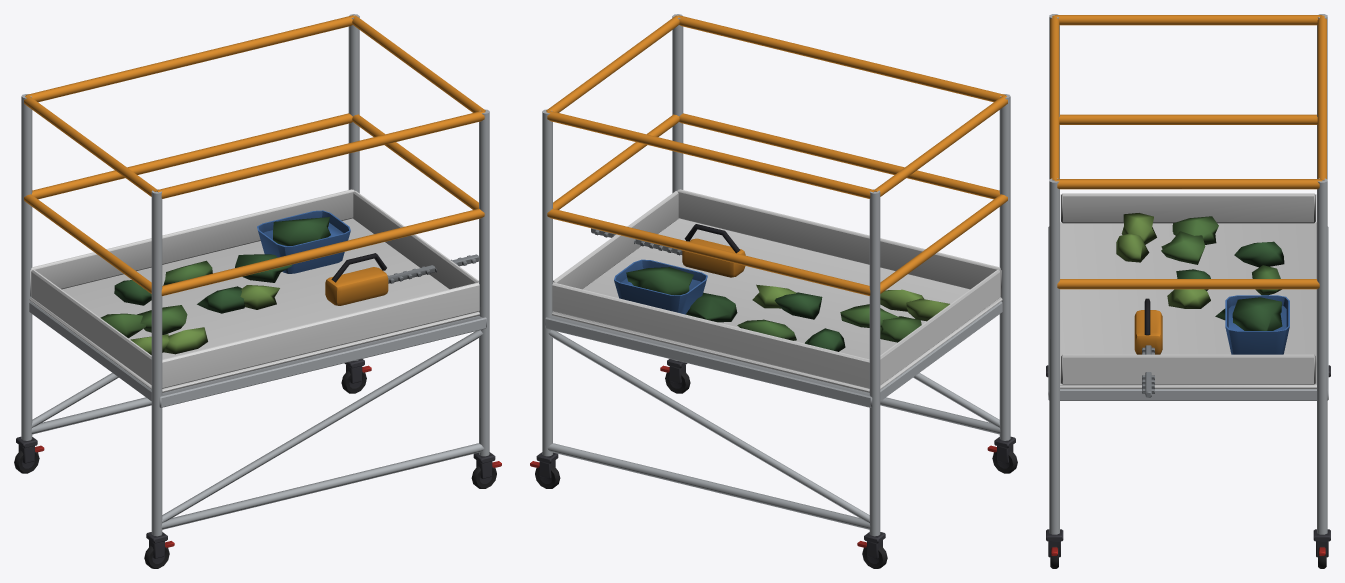
Rendered from AccessPlatform.fbx.
3 renders of one model, left to right at view 1: azimuth 30°, elevation 25°; view 2: azimuth 150°, elevation 25°; view 3: azimuth 270°, elevation 25°, orthographic. The views are drawn at different scales.
Visible parts, largest first — view 1: AccessPlatform; view 2: AccessPlatform; view 3: AccessPlatform.
Boxes of the visible parts, x1,y1,x2,y2 form: AccessPlatform: (14, 14, 501, 568); AccessPlatform: (530, 14, 1017, 568); AccessPlatform: (1046, 14, 1330, 568).
Bounding box in the file's own units: 2.08 × 1.98 × 1.32.
